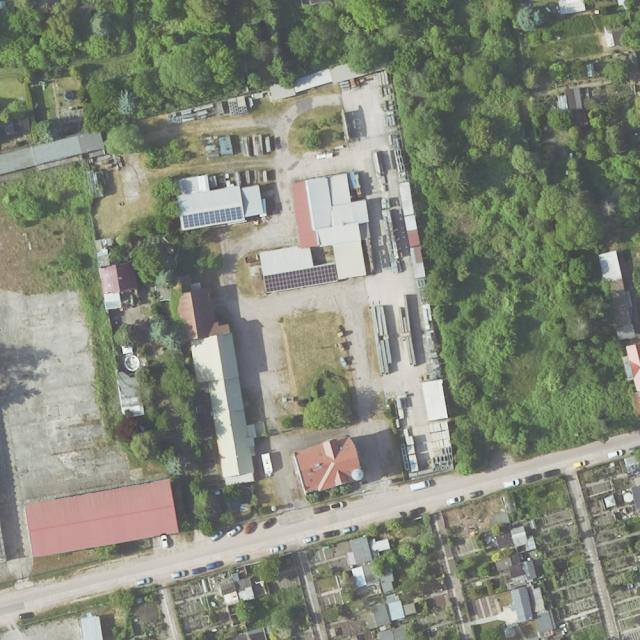PV: (264, 263, 338, 293), (182, 205, 243, 228)
